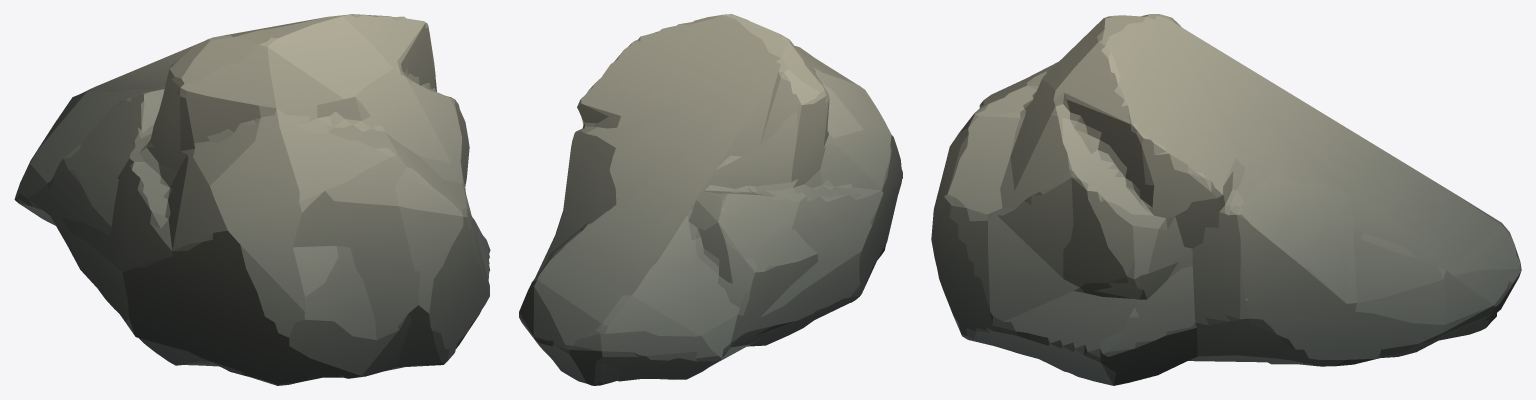
Rendered from rock_4_07.fbx.
3 renders of one model, left to right at view 1: azimuth 30°, elevation 25°; view 2: azimuth 150°, elevation 25°; view 3: azimuth 270°, elevation 25°, orthographic. The views are drawn at different scales.
Visible parts, largest first — view 1: rock_4_07; view 2: rock_4_07; view 3: rock_4_07.
Boxes of the visible parts, x1,y1,x2,y2 form: rock_4_07: (14,14,490,385); rock_4_07: (519,14,902,385); rock_4_07: (931,14,1521,385).
Size of the model in its own units: 285 by 262 by 457.
